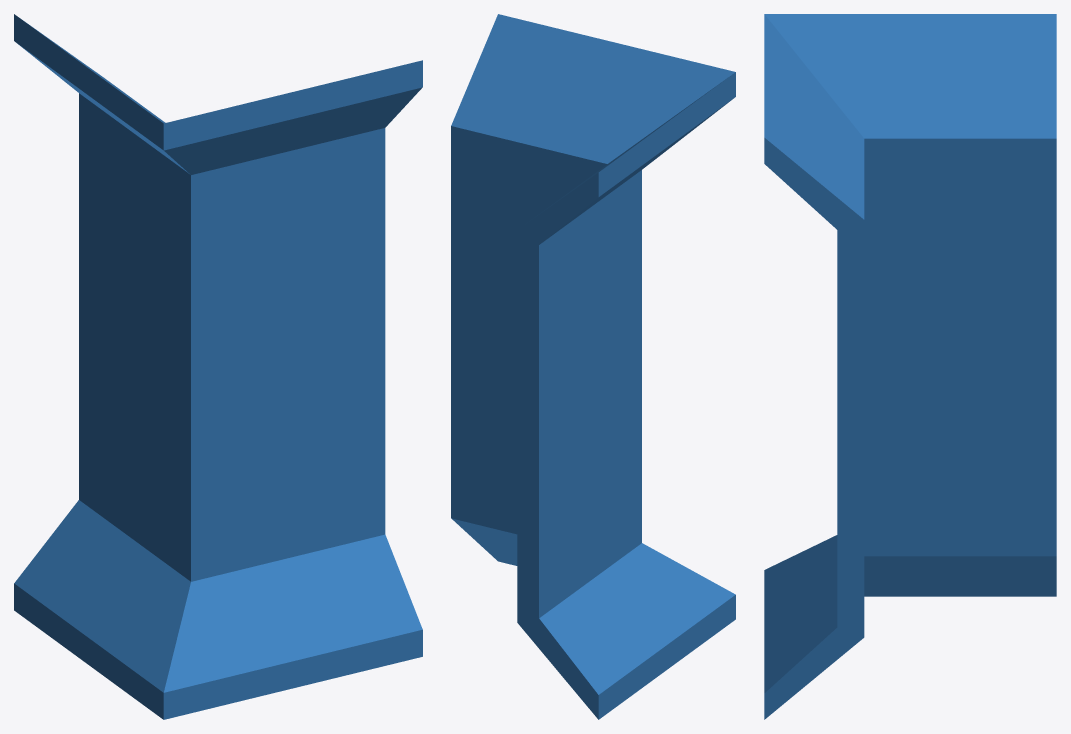
The model's file is Rooms_Wall_ConerOut_A.FBX.
3 renders of one model, left to right at view 1: azimuth 30°, elevation 25°; view 2: azimuth 150°, elevation 25°; view 3: azimuth 270°, elevation 25°, orthographic. The views are drawn at different scales.
Visible parts, largest first — view 1: Rooms_Wall_ConerOut_A; view 2: Rooms_Wall_ConerOut_A; view 3: Rooms_Wall_ConerOut_A.
Boxes of the visible parts, x1,y1,x2,y2 form: Rooms_Wall_ConerOut_A: (14, 14, 422, 719); Rooms_Wall_ConerOut_A: (451, 14, 735, 719); Rooms_Wall_ConerOut_A: (764, 14, 1056, 719).
Size of the model in its own units: 200 by 440 by 200.
